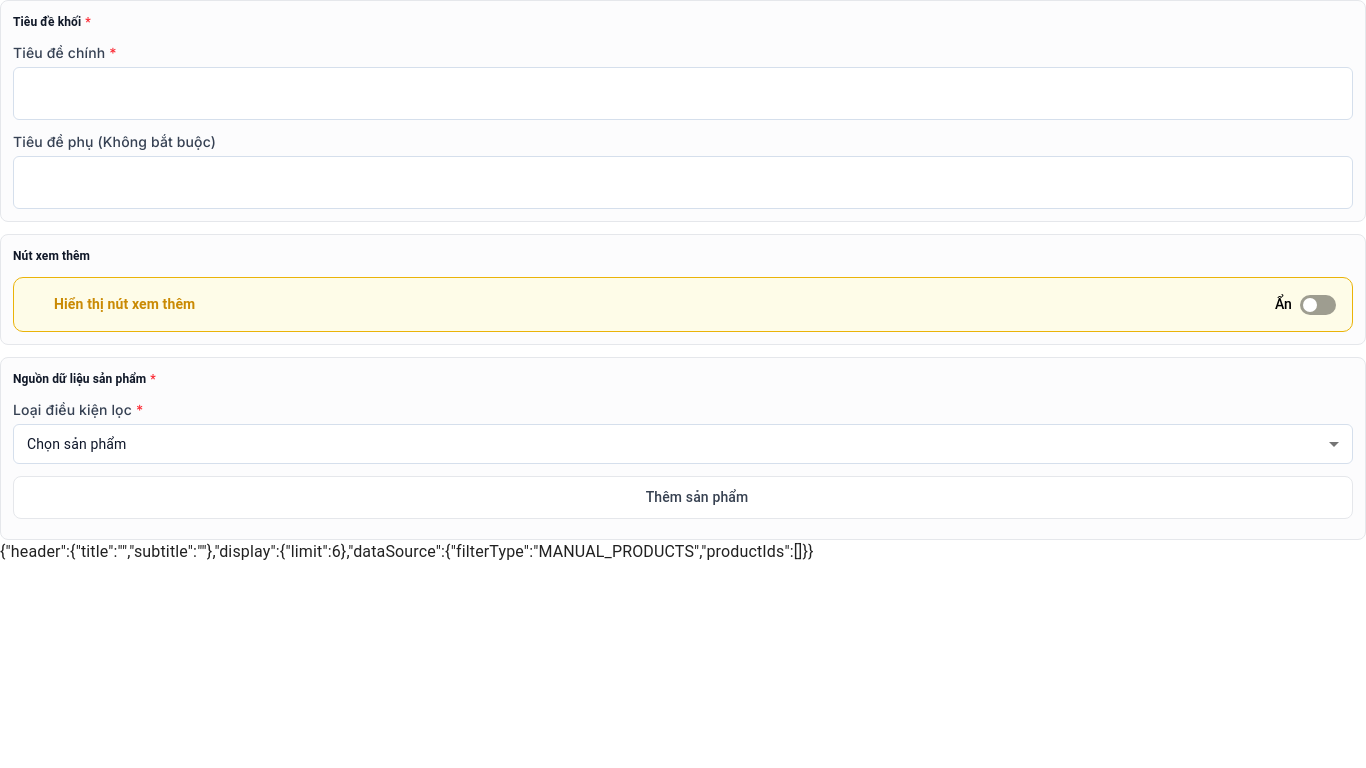
it: ported CMS source forms › chooses products through the original dialog instead of a comma-separated ID field
This screenshot has width=1366, height=768.
Click the button "Thêm sản phẩm": (683, 498) [13,476,1353,519]
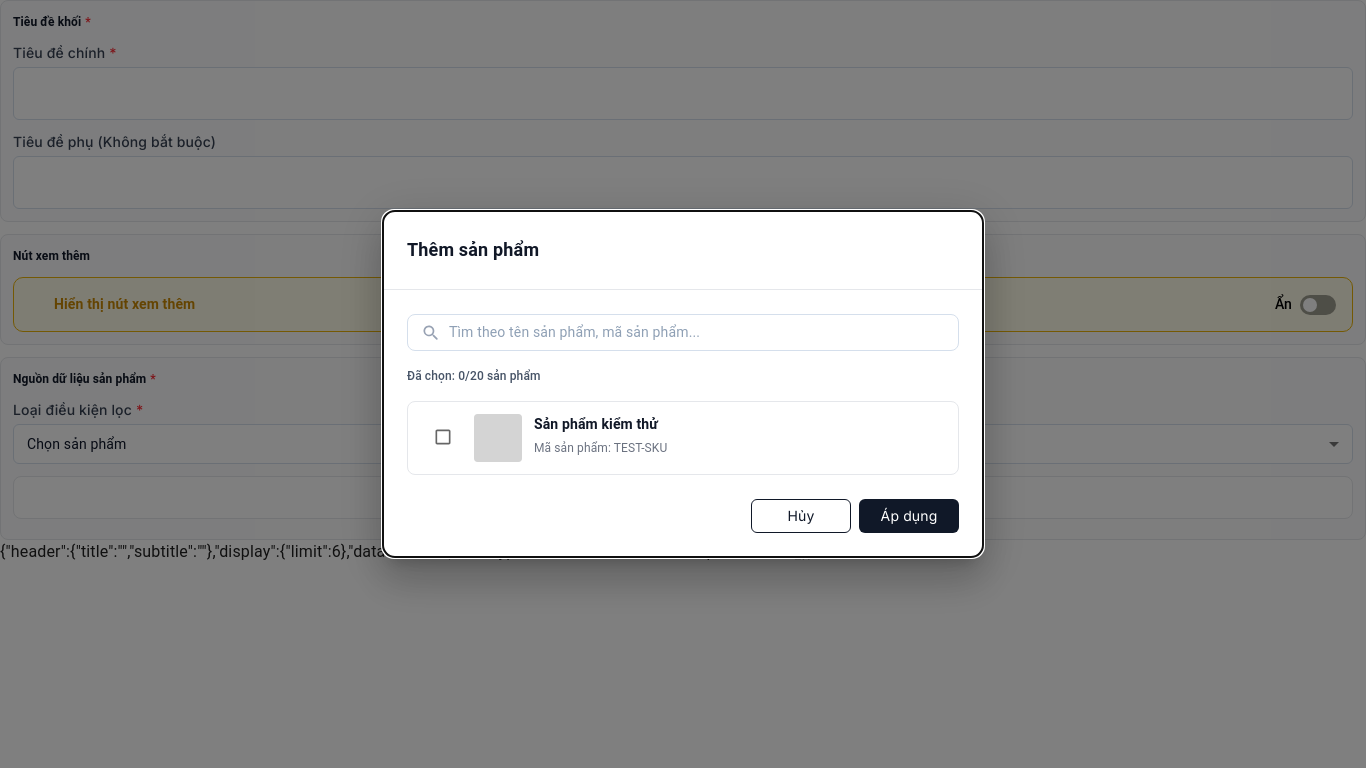
Check: the dialog shows "Sản phẩm kiểm thử", box [534,416,658,432]
Click the checkbox: (443, 437) [433,427,453,447]
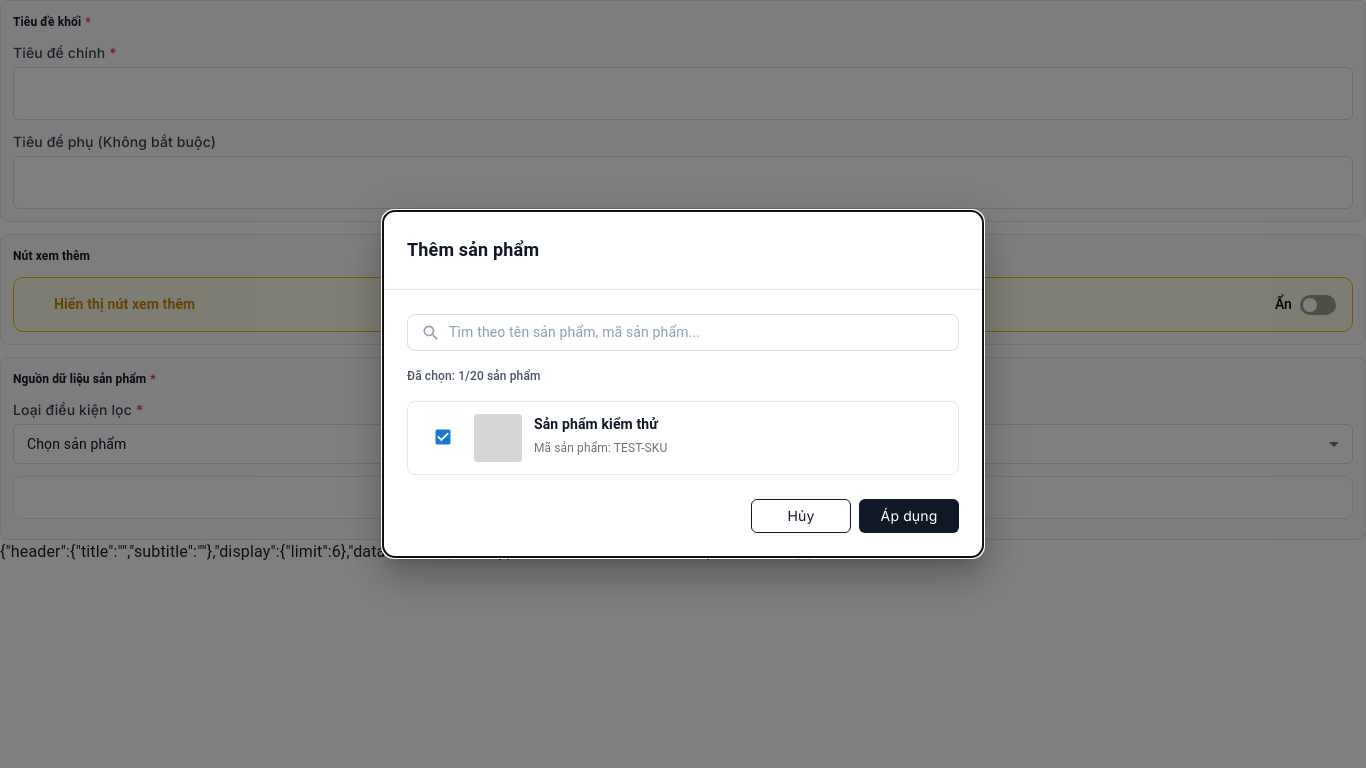
Check: the button "Áp dụng" is shown
Click the button "Áp dụng": (909, 516) [859,499,959,533]
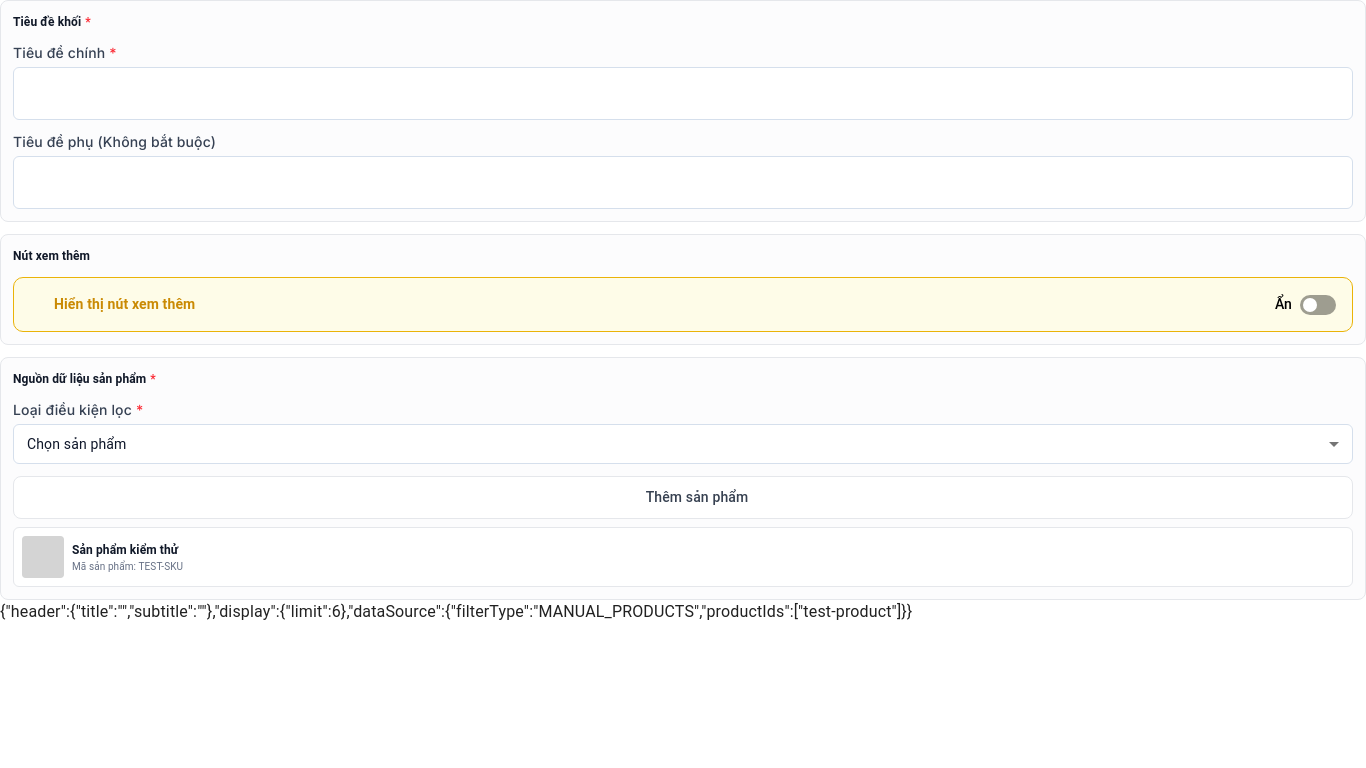
Check: the text "\"productIds\":[\"test-product\"]" is shown, box [0,602,912,621]
